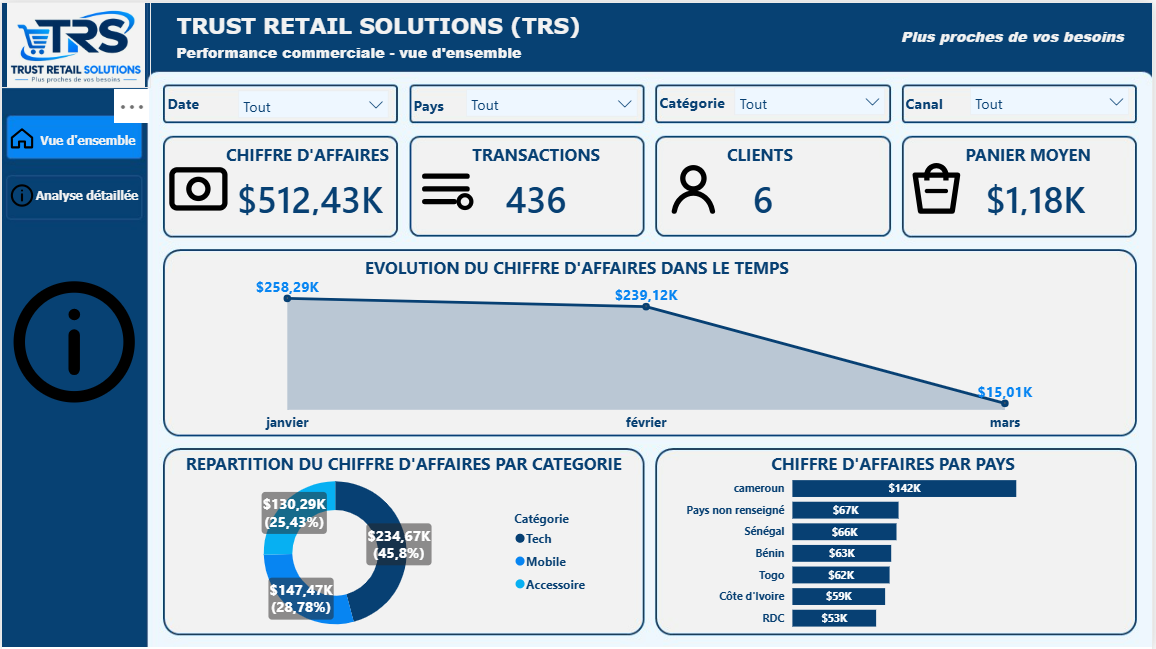

This screenshot's page, from the dashboard's own definition file:
{"tool":"powerbi","page":{"name":"Page 1","canvas":[1280,720],"ordinal":0},"visuals":[{"type":"textbox","box":[189.3,6.4,477.2,41.4],"z":0,"group":"g8"},{"type":"textbox","box":[38.3,137.5,116.4,28.9],"z":0,"group":"g6"},{"type":"textbox","box":[28.1,200.8,134.4,32.8],"z":0,"group":"g7"},{"type":"image","box":[8.8,135.9,30,30],"z":1000,"group":"g6"},{"type":"image","box":[8.6,201.6,29.7,29.7],"z":1000,"group":"g7"},{"type":"image","box":[0,264.4,162.7,225.4],"z":1000},{"type":"textbox","box":[189.3,39.8,397.7,36.6],"z":2000,"group":"g8"},{"type":"textbox","box":[179.9,96.7,54,36.8],"z":2000,"group":"g2"},{"type":"textbox","box":[454.1,97.4,54,36.8],"z":2000,"group":"g3"},{"type":"slicer","fields":{"Values":["ventes_TRS_2026.Pays"]},"box":[506.9,86,210.3,46],"z":3000,"group":"g3"},{"type":"slicer","fields":{"Values":["ventes_TRS_2026.Date"]},"box":[253.3,88.7,187.1,45.2],"z":3000,"group":"g2"},{"type":"textbox","box":[1000,96.6,85.1,36.8],"z":3000,"group":"g5"},{"type":"group","id":"g1","title":"Groupe 1","box":[181.4,151.2,274.4,103.5],"z":3000,"group":"g8"},{"type":"textbox","box":[726.4,95.4,102.3,34.5],"z":4000,"group":"g4"},{"type":"textbox","box":[245.4,151.2,194.2,37.2],"z":4000,"group":"g1"},{"type":"textbox","box":[316.7,275.9,646.3,37],"z":4000,"group":"g8"},{"type":"slicer","fields":{"Values":["ventes_TRS_2026.Canal"]},"box":[1066.7,85.1,196.6,44.8],"z":5000,"group":"g5"},{"type":"textbox","box":[801.1,151.7,87.4,36.8],"z":5000,"group":"g8"},{"type":"cardVisual","fields":{"Data":["_Mesures.CA Total"]},"box":[232.6,180.3,223.3,74.4],"z":5000,"group":"g1"},{"type":"textbox","box":[1066.7,151.7,192,36.8],"z":6000,"group":"g8"},{"type":"image","box":[181.4,169.8,75.6,75.6],"z":6000,"group":"g1"},{"type":"textbox","box":[518.4,151.7,155.2,36.8],"z":7000,"group":"g8"},{"type":"slicer","fields":{"Values":["ventes_TRS_2026.Catégorie"]},"box":[804.4,85.1,187.1,45.2],"z":8000,"group":"g4"},{"type":"cardVisual","fields":{"Data":["_Mesures.Nombre Clients"]},"box":[806.9,179.3,143.7,74.7],"z":8000,"group":"g8"},{"type":"cardVisual","fields":{"Data":["_Mesures.Panier Moyen"]},"box":[1065.2,180.3,192.4,74.2],"z":9000,"group":"g8"},{"type":"cardVisual","fields":{"Data":["_Mesures.Nombre Transactions"]},"box":[531,179.3,131.2,73.4],"z":10000,"group":"g8"},{"type":"image","box":[731.2,170.2,75.6,75.6],"z":11000,"group":"g8"},{"type":"image","box":[1001,170.3,75.6,75.6],"z":12000,"group":"g8"},{"type":"image","box":[456.2,170.2,75.6,75.6],"z":13000,"group":"g8"},{"type":"group","id":"g2","title":"Groupe 2","box":[179.9,88.7,260.5,45.2],"z":14000,"group":"g8"},{"type":"group","id":"g3","title":"Groupe 2","box":[454.1,86,263.2,48.2],"z":15000,"group":"g8"},{"type":"lineChart","fields":{"Category":["Calendrier.Mois"],"Y":["_Mesures.CA Total"]},"box":[154.1,295.1,1126.2,191.8],"z":16000,"group":"g8"},{"type":"textbox","box":[194.9,494.9,505.1,34.7],"z":17000,"group":"g8"},{"type":"donutChart","fields":{"Category":["ventes_TRS_2026.Catégorie"],"Y":["_Mesures.CA Total"]},"box":[166.7,503.3,496.7,216.7],"z":18000,"group":"g8"},{"type":"textbox","box":[737.8,494.9,505.6,35.2],"z":19000,"group":"g8"},{"type":"barChart","fields":{"Category":["ventes_TRS_2026.Pays"],"Y":["_Mesures.CA Total"]},"box":[755.5,509,478.8,200.4],"z":20000,"group":"g8"},{"type":"group","id":"g4","title":"Groupe 3","box":[726.4,85.1,265.1,45.2],"z":21000,"group":"g8"},{"type":"group","id":"g5","title":"Groupe 4","box":[1000,85.1,263.2,48.3],"z":22000,"group":"g8"},{"type":"image","box":[0,0,166.7,95],"z":23000,"group":"g8"},{"type":"textbox","box":[995,21.7,285,36.7],"z":24000,"group":"g8"},{"type":"group","id":"g6","title":"Groupe 5","box":[8.8,135.9,145.9,30.5],"z":25000,"group":"g8"},{"type":"group","id":"g7","title":"Groupe 6","box":[8.6,200.8,153.9,32.8],"z":26000,"group":"g8"},{"type":"shape","box":[3.3,124.6,154.1,52.5],"z":27000,"group":"g8"},{"type":"shape","box":[3.3,191.8,154.1,52.5],"z":28000,"group":"g8"},{"type":"group","id":"g8","title":"Groupe 7","box":[0,0,1280.4,720.5],"z":29001}]}

Visuals, with their boxes in screenshot pixels (x1, y1, x2, y2):
textbox: select_region(169, 3, 594, 40)
textbox: select_region(34, 119, 138, 145)
textbox: select_region(25, 176, 145, 205)
image: select_region(8, 118, 35, 145)
image: select_region(8, 177, 34, 203)
image: select_region(0, 232, 145, 433)
textbox: select_region(169, 32, 523, 65)
textbox: select_region(160, 83, 208, 116)
textbox: select_region(404, 84, 453, 117)
slicer - ventes_TRS_2026.Pays: select_region(451, 74, 639, 115)
slicer - ventes_TRS_2026.Date: select_region(226, 76, 392, 116)
textbox: select_region(891, 83, 966, 116)
"Groupe 1" group: select_region(162, 132, 406, 224)
textbox: select_region(647, 82, 738, 113)
textbox: select_region(219, 132, 392, 165)
textbox: select_region(282, 243, 858, 276)
slicer - ventes_TRS_2026.Canal: select_region(950, 73, 1125, 113)
textbox: select_region(713, 132, 791, 165)
cardVisual - _Mesures.CA Total: select_region(207, 158, 406, 224)
textbox: select_region(950, 132, 1121, 165)
image: select_region(162, 148, 229, 216)
textbox: select_region(462, 132, 600, 165)
slicer - ventes_TRS_2026.Catégorie: select_region(716, 73, 883, 113)
cardVisual - _Mesures.Nombre Clients: select_region(719, 157, 847, 223)
cardVisual - _Mesures.Panier Moyen: select_region(949, 158, 1120, 224)
cardVisual - _Mesures.Nombre Transactions: select_region(473, 157, 590, 222)
image: select_region(651, 149, 719, 216)
image: select_region(892, 149, 959, 216)
image: select_region(406, 149, 474, 216)
"Groupe 2" group: select_region(160, 76, 392, 116)
"Groupe 2" group: select_region(404, 74, 639, 117)
lineChart - Calendrier.Mois x _Mesures.CA Total: select_region(137, 260, 1140, 431)
textbox: select_region(174, 438, 623, 469)
donutChart - ventes_TRS_2026.Catégorie x _Mesures.CA Total: select_region(148, 445, 591, 638)
textbox: select_region(657, 438, 1107, 469)
barChart - ventes_TRS_2026.Pays x _Mesures.CA Total: select_region(673, 450, 1099, 629)
"Groupe 3" group: select_region(647, 73, 883, 113)
"Groupe 4" group: select_region(891, 73, 1125, 116)
image: select_region(0, 0, 148, 82)
textbox: select_region(886, 16, 1140, 49)
"Groupe 5" group: select_region(8, 118, 138, 145)
"Groupe 6" group: select_region(8, 176, 145, 205)
shape: select_region(3, 108, 140, 155)
shape: select_region(3, 168, 140, 215)
"Groupe 7" group: select_region(0, 0, 1140, 639)
